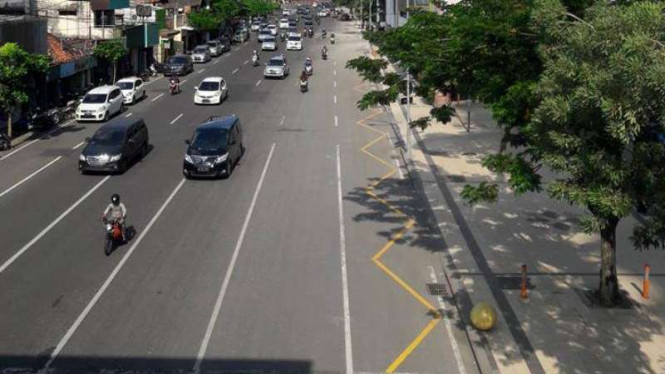car: (78, 119, 149, 175), (182, 117, 239, 181), (78, 86, 124, 122), (114, 75, 145, 108), (193, 77, 226, 103), (264, 54, 289, 83), (165, 54, 193, 78), (191, 45, 210, 64), (287, 32, 301, 54), (262, 35, 277, 51), (258, 29, 273, 45), (207, 41, 220, 58), (279, 17, 290, 30)
motorbike: (99, 197, 132, 256), (168, 71, 180, 94), (304, 56, 313, 78), (301, 70, 308, 94), (252, 49, 259, 65)
